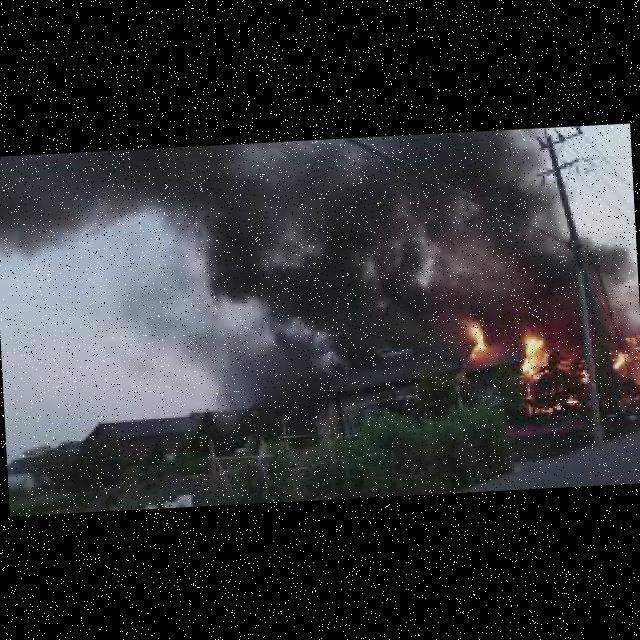Fire: (519, 334, 551, 378), (464, 320, 488, 357), (527, 404, 561, 414), (610, 352, 625, 369), (565, 397, 577, 406)
Smoke: (184, 124, 639, 341)
